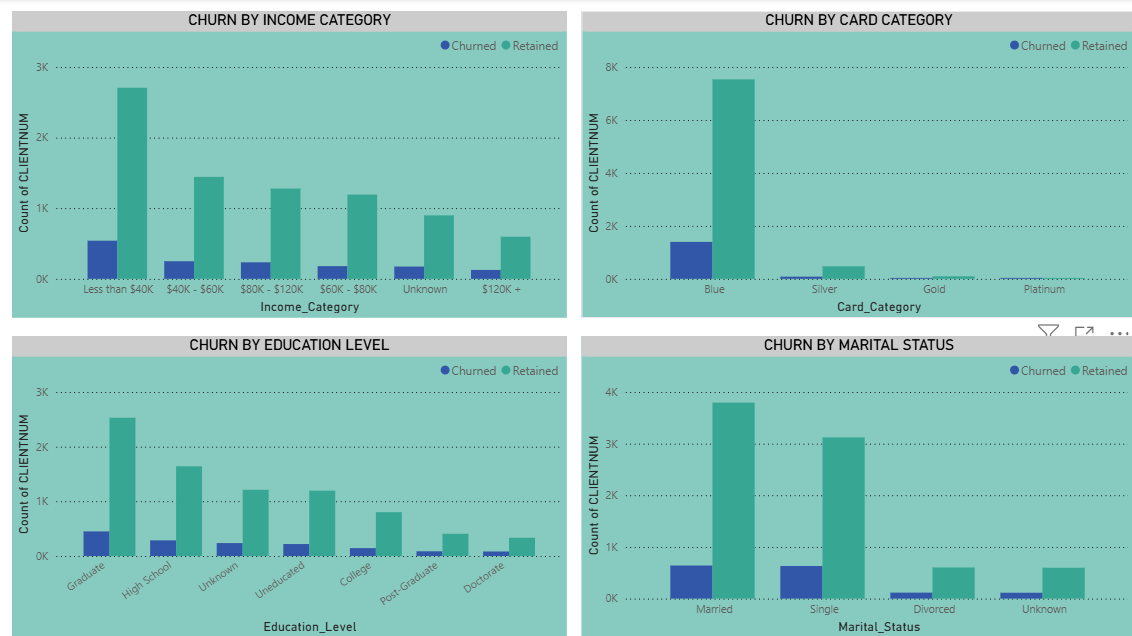

The page's visual inventory and layout, read from the dashboard file:
{"tool":"powerbi","page":{"name":"Churn Analysis","canvas":[1280,720],"ordinal":1},"visuals":[{"type":"clusteredColumnChart","title":"CHURN BY INCOME CATEGORY","fields":{"Category":["BankChurners.Income_Category"],"Y":["CountNonNull(BankChurners.CLIENTNUM)"],"Series":["BankChurners.Churn Status"]},"box":[14.6,14.6,624.9,345.4],"z":0},{"type":"clusteredColumnChart","title":"CHURN BY CARD CATEGORY","fields":{"Y":["CountNonNull(BankChurners.CLIENTNUM)"],"Series":["BankChurners.Churn Status"],"Category":["BankChurners.Card_Category"]},"box":[655.6,14.6,624.9,345.4],"z":1000},{"type":"clusteredColumnChart","title":"CHURN BY EDUCATION LEVEL","fields":{"Y":["CountNonNull(BankChurners.CLIENTNUM)"],"Series":["BankChurners.Churn Status"],"Category":["BankChurners.Education_Level"]},"box":[14.6,380.5,624.9,339.5],"z":2000},{"type":"clusteredColumnChart","title":"CHURN BY MARITAL STATUS","fields":{"Y":["CountNonNull(BankChurners.CLIENTNUM)"],"Series":["BankChurners.Churn Status"],"Category":["BankChurners.Marital_Status"]},"box":[655.6,380.5,624.9,339.5],"z":3000}]}

Visuals, with their boxes in screenshot pixels (x1, y1, x2, y2), scaled from the page's 1280x720 canvas onto the 1132x636 screenshot:
"CHURN BY INCOME CATEGORY" clusteredColumnChart: (13,13,566,318)
"CHURN BY CARD CATEGORY" clusteredColumnChart: (580,13,1131,318)
"CHURN BY EDUCATION LEVEL" clusteredColumnChart: (13,336,566,635)
"CHURN BY MARITAL STATUS" clusteredColumnChart: (580,336,1131,635)
